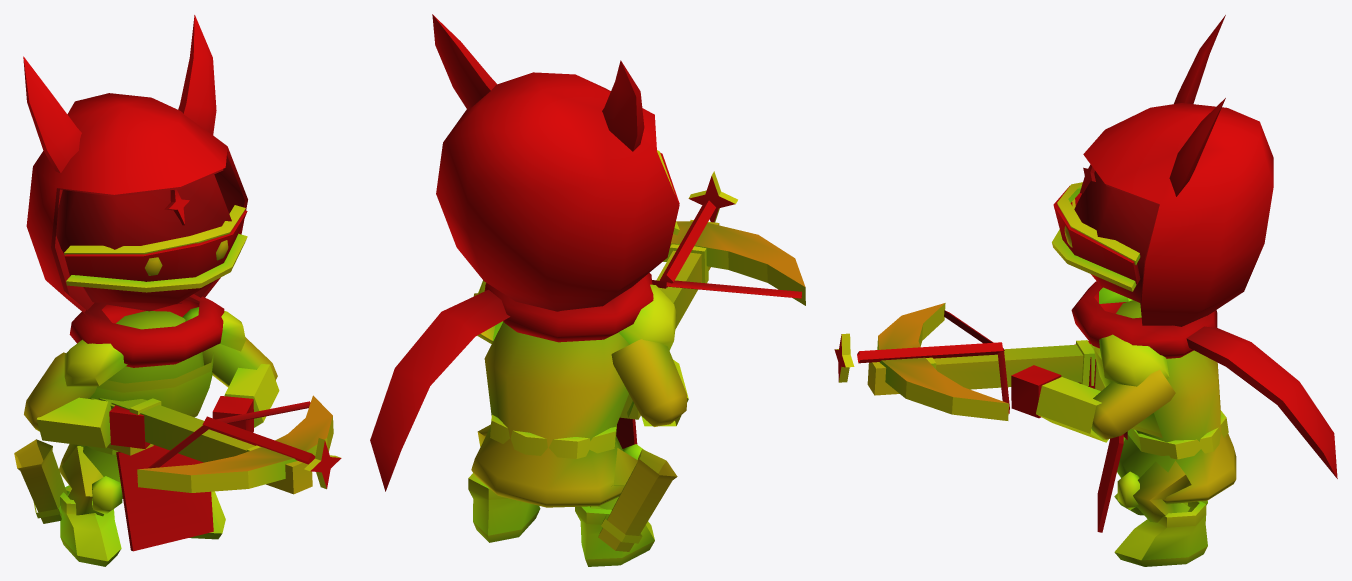
File: StarHunter_LOD1.glb
The picture shows the model from 3 angles, left to right: view 1: azimuth 30°, elevation 25°; view 2: azimuth 150°, elevation 25°; view 3: azimuth 270°, elevation 25°; orthographic projection. The views are drawn at different scales.
Visible parts, largest first — view 1: StarHunter_LOD1; view 2: StarHunter_LOD1; view 3: StarHunter_LOD1.
Boxes of the visible parts, x1,y1,x2,y2 form: StarHunter_LOD1: (14,15,341,566); StarHunter_LOD1: (370,14,805,566); StarHunter_LOD1: (834,15,1337,566).
Size of the model in its own units: 0.4229 by 0.8877 by 0.8489.
